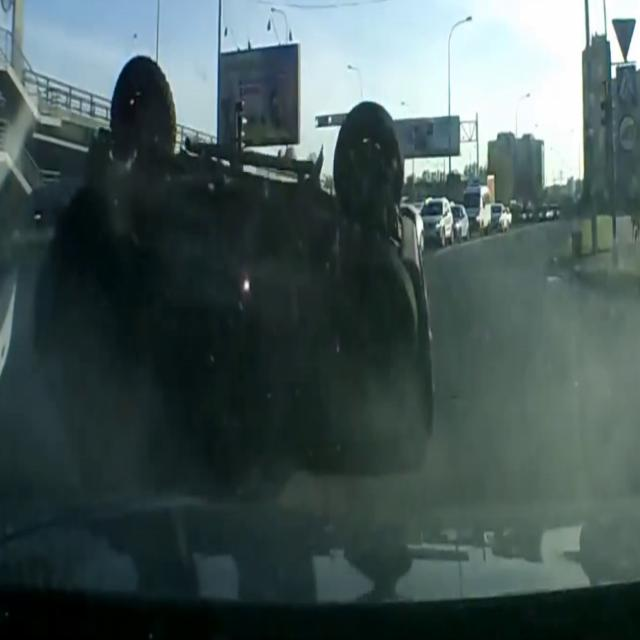accident: (41, 96, 455, 528)
